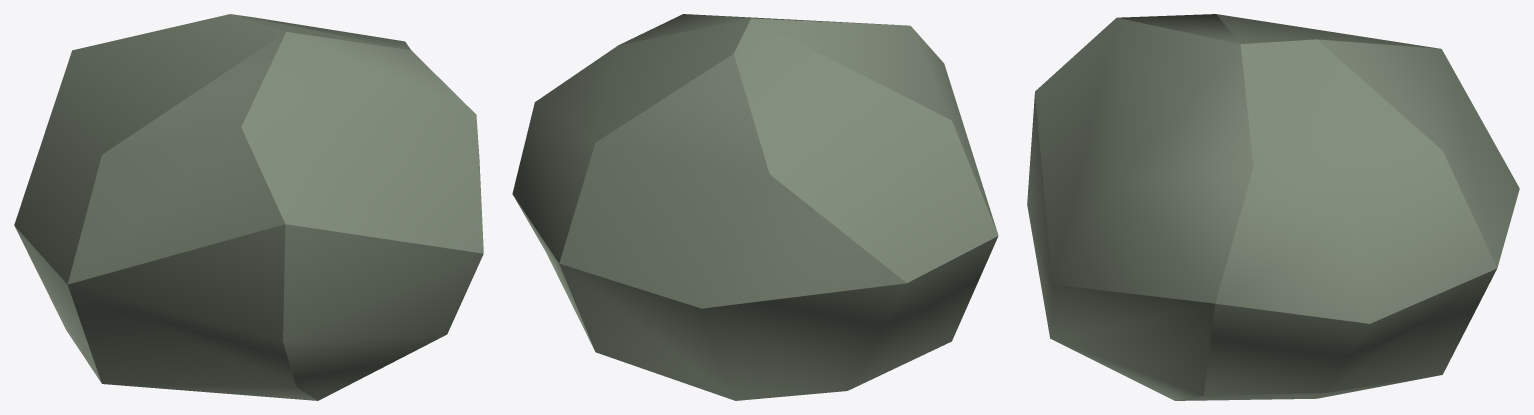
The model's file is rock3.fbx.
The picture shows the model from 3 angles, left to right: view 1: azimuth 30°, elevation 25°; view 2: azimuth 150°, elevation 25°; view 3: azimuth 270°, elevation 25°; orthographic projection. The views are drawn at different scales.
Parts seen in each view (by area): view 1: polySurface1; view 2: polySurface1; view 3: polySurface1.
Boxes of the visible parts, box(x1,y1,x2,y2) form: polySurface1: box(14, 14, 483, 400); polySurface1: box(512, 14, 998, 400); polySurface1: box(1027, 14, 1519, 400).
Bounding box in the file's own units: 1.59 × 1.27 × 1.56.
